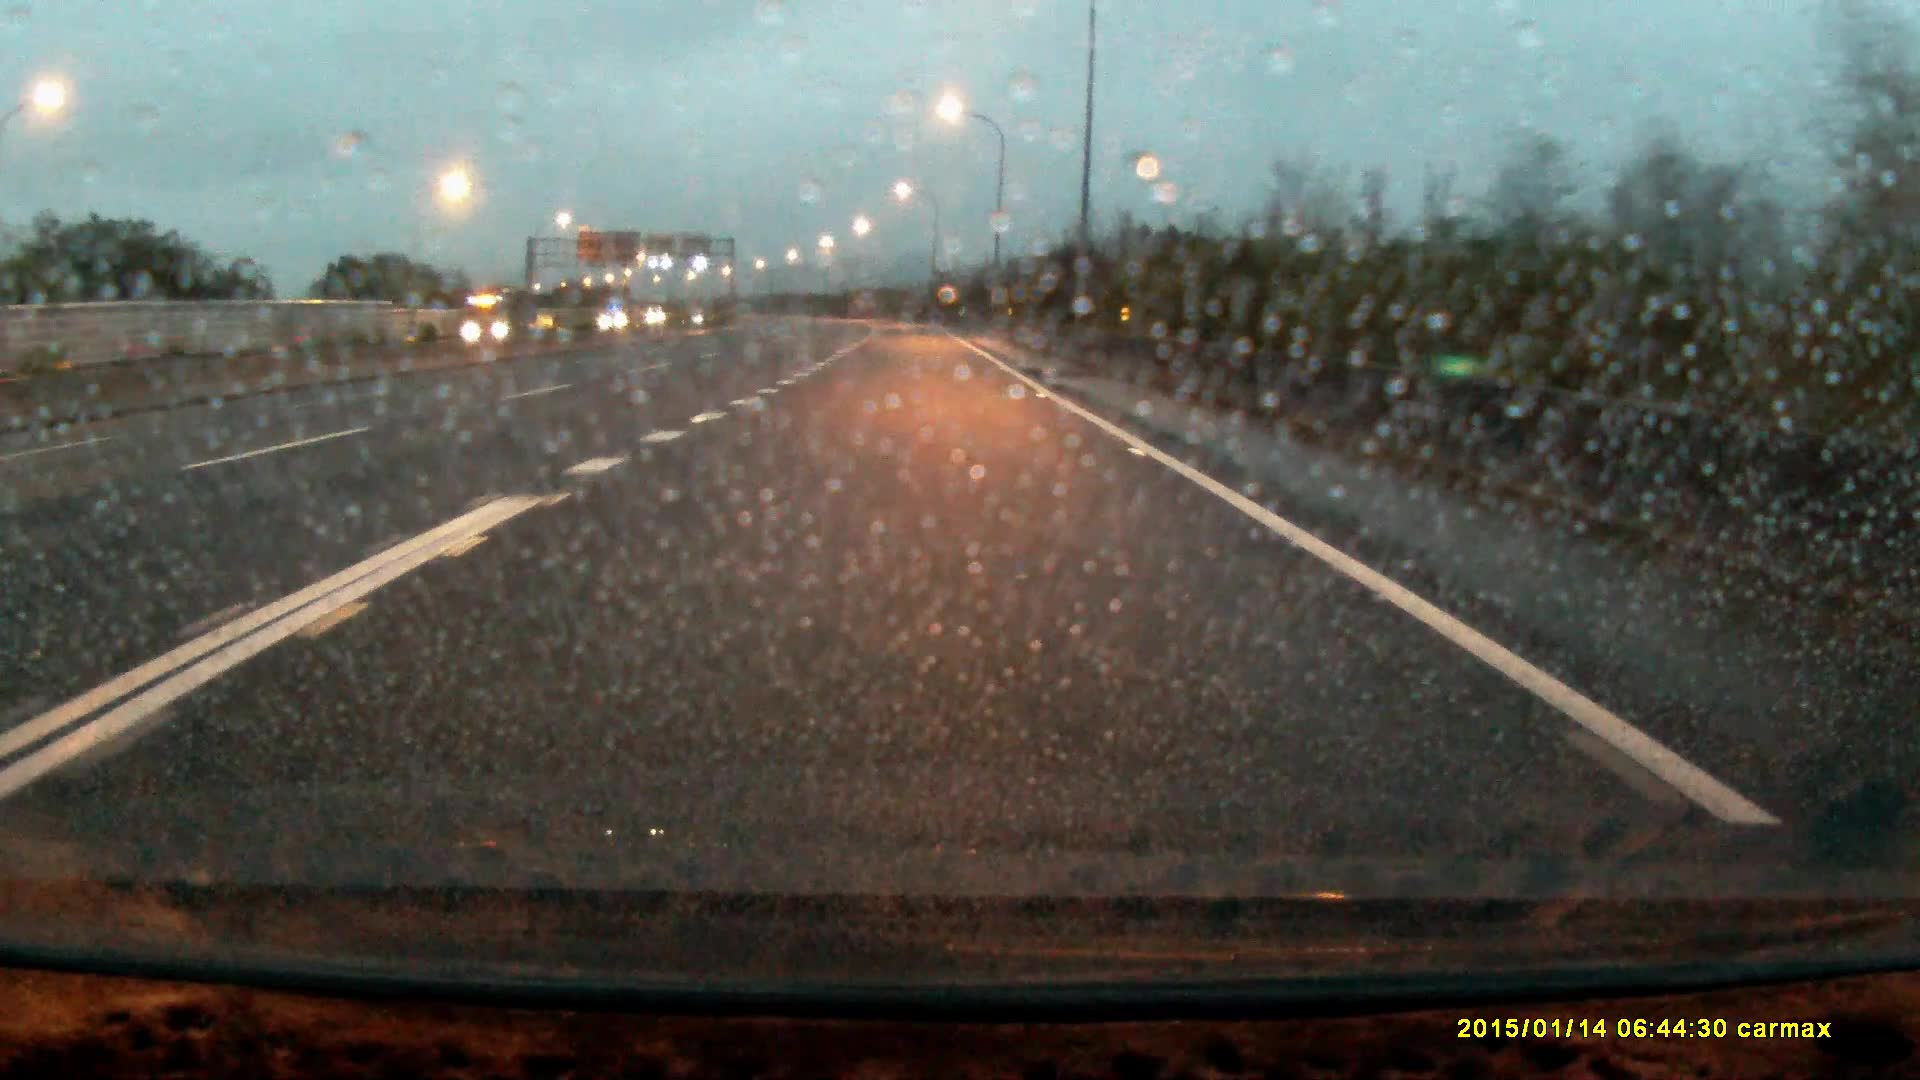vehicle: (464, 297, 534, 343)
